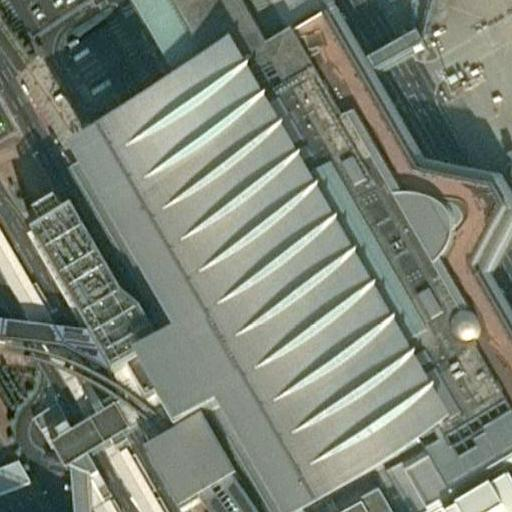Aircraft: (395, 0, 512, 8)
